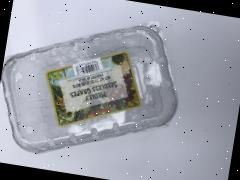plastic: (0, 0, 232, 180)
